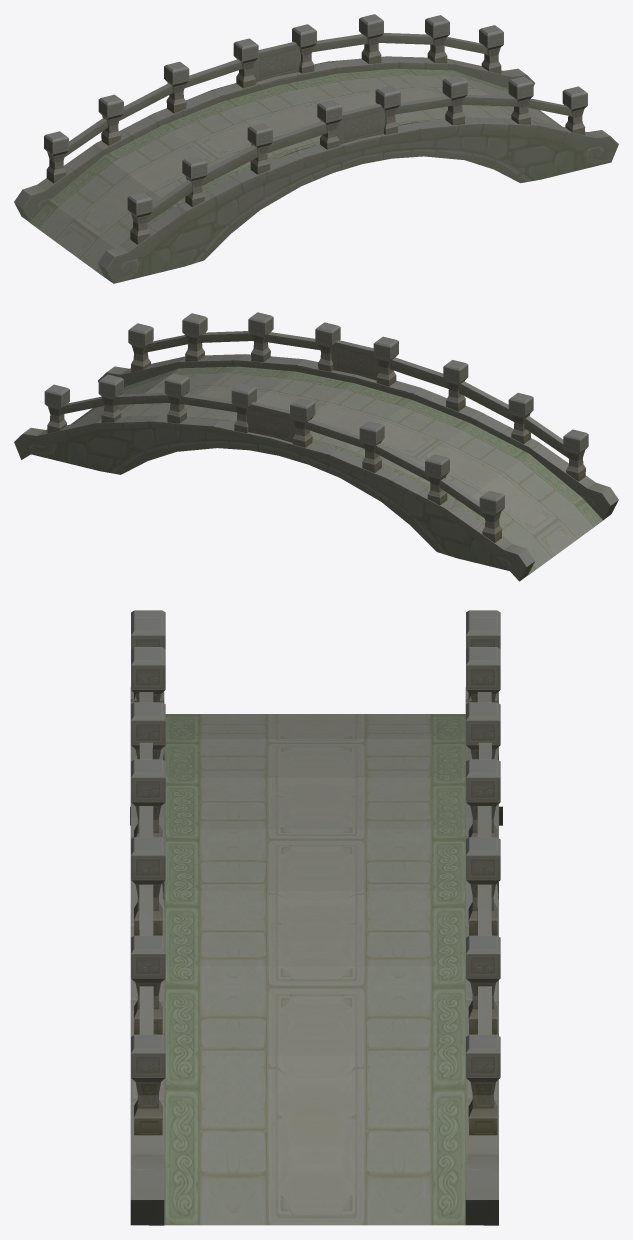
Rendered from shiqiao.FBX.
3 views of the same model, one above another, from view 1: azimuth 30°, elevation 25°; view 2: azimuth 150°, elevation 25°; view 3: azimuth 270°, elevation 25° (orthographic). The views are drawn at different scales.
Parts seen in each view (by area): view 1: shiqiao; view 2: shiqiao; view 3: shiqiao.
Boxes of the visible parts, <box> form: shiqiao: <box>14,14,618,283</box>; shiqiao: <box>14,312,618,581</box>; shiqiao: <box>130,610,502,1225</box>.
Bounding box in the file's own units: 1588 × 364 × 500.
